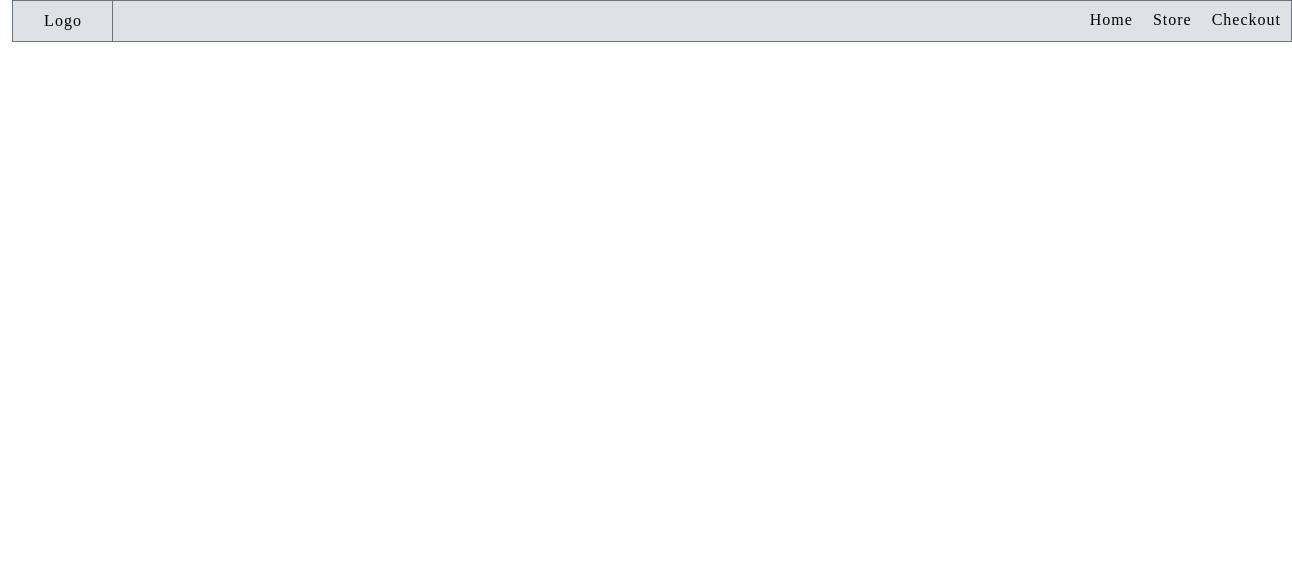
Test: Deducting a Product
Click the link "Store": click(1172, 20) left=1153, top=11, right=1192, bottom=28
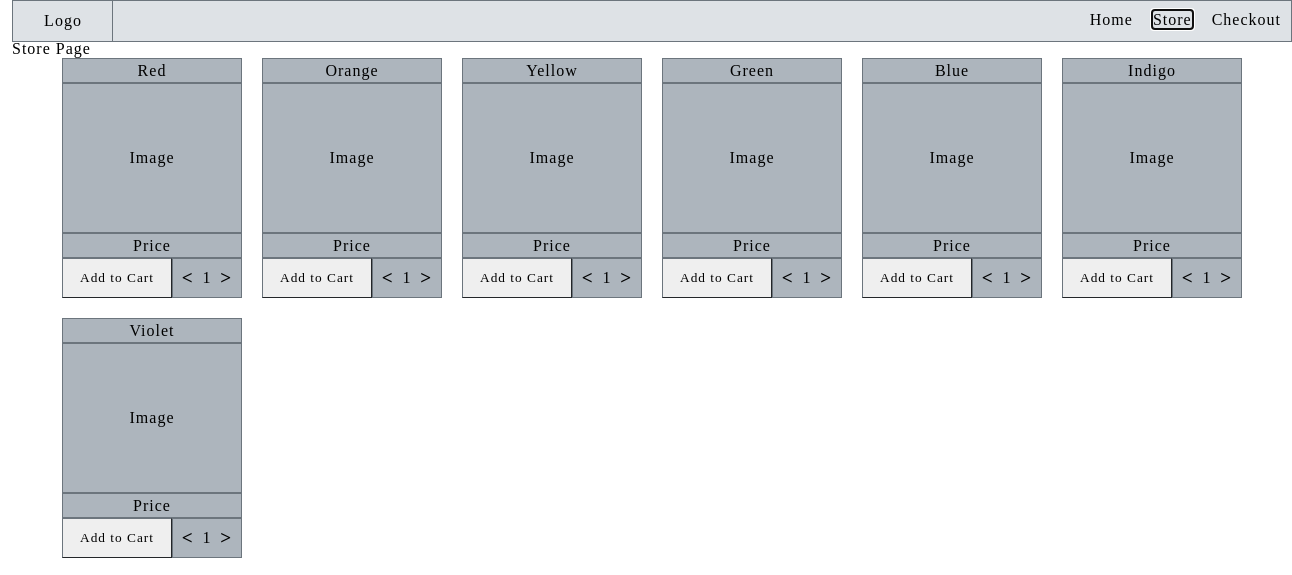
Click the button ">" below "Red": click(226, 278) left=214, top=266, right=238, bottom=290
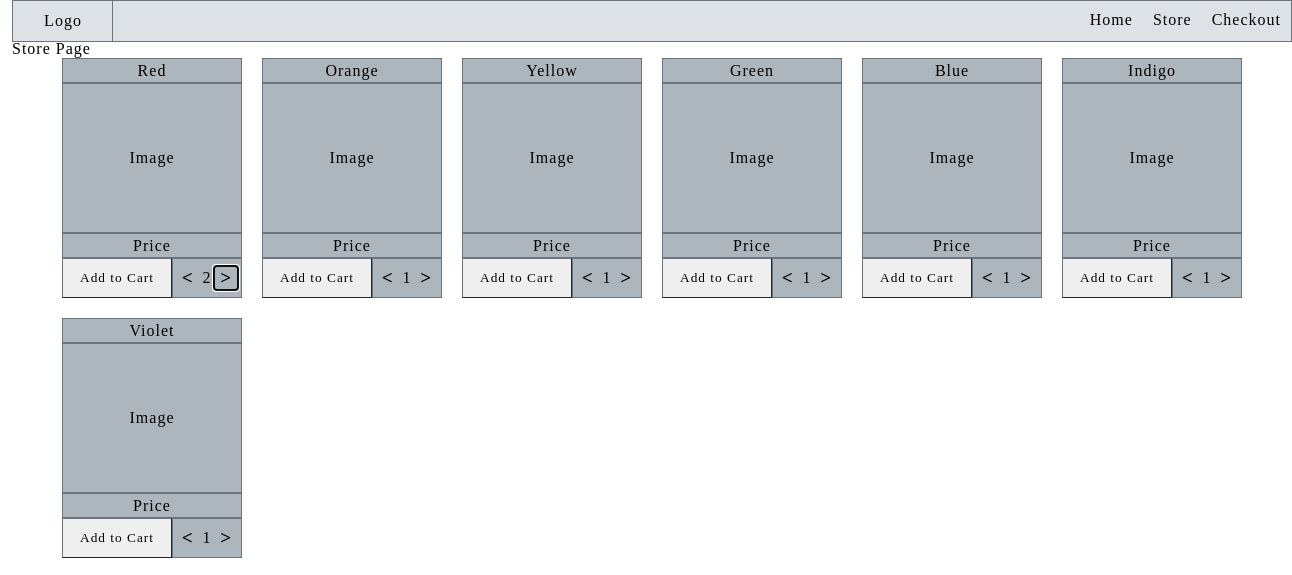
Click the button ">" below "Red": click(226, 278) left=214, top=266, right=238, bottom=290
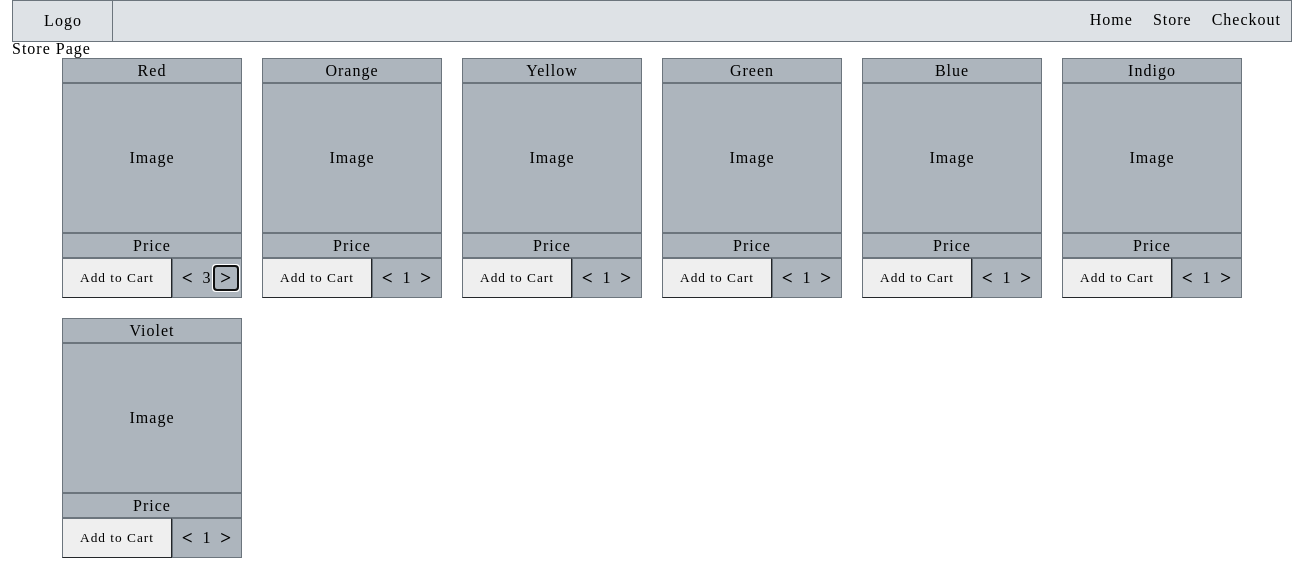
Click the button "<" below "Red": click(188, 278) left=176, top=266, right=200, bottom=290
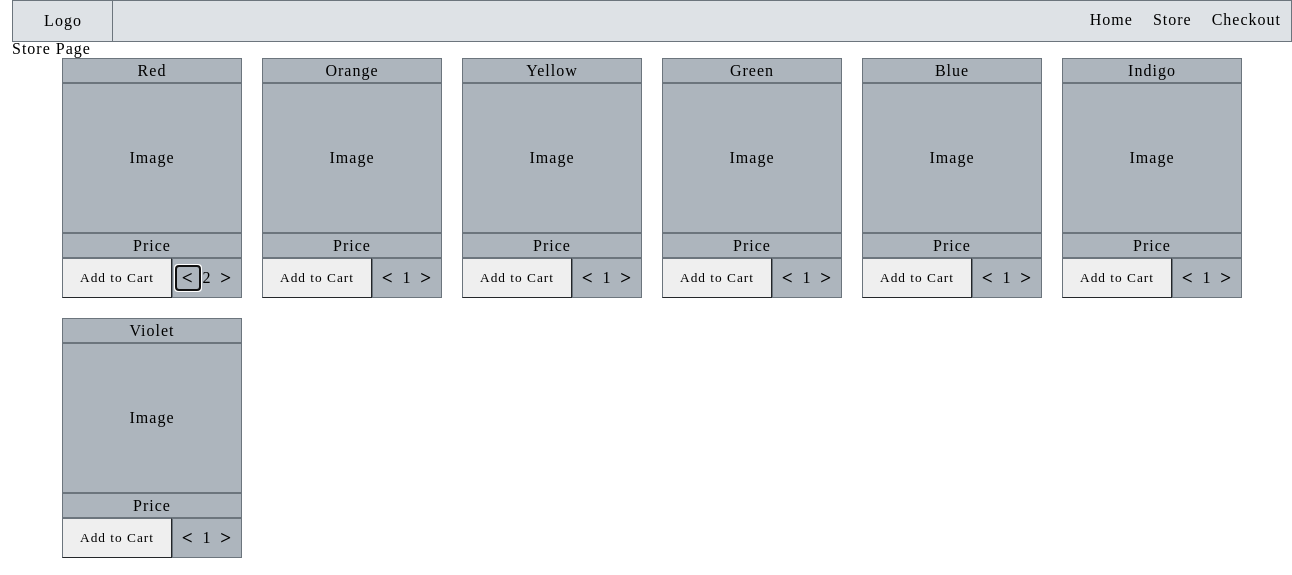
Check: the text "2" is shown, box left=202, top=269, right=212, bottom=287
